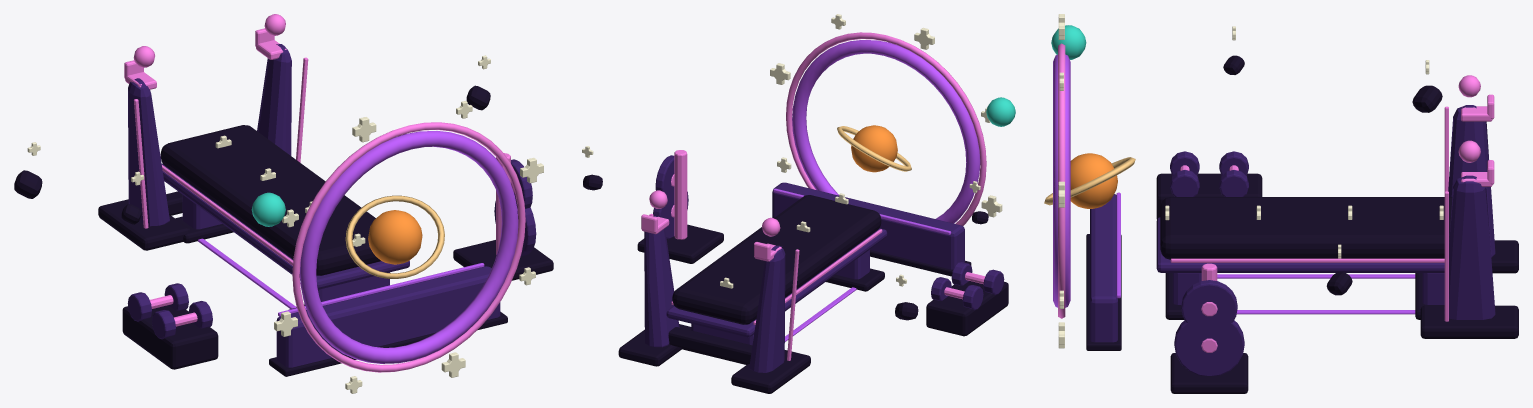
The model's file is Bench_Cosmique.fbx.
3 views of the same model, side by side, from view 1: azimuth 30°, elevation 25°; view 2: azimuth 150°, elevation 25°; view 3: azimuth 270°, elevation 25° (orthographic). The views are drawn at different scales.
Visible parts, largest first — view 1: Void, Purple, Glow.003, Pink, Star, PlanetOrange, SaturnRing, PlanetTeal; view 2: Void, Purple, Pink, Glow.003, Star, PlanetOrange, SaturnRing, PlanetTeal; view 3: Void, Purple, Pink, Glow.003, PlanetOrange, Star, PlanetTeal, SaturnRing.
Part boxes in pixels (x1,y1,x2,y2): Void: (14, 85, 553, 376); Purple: (127, 44, 536, 367); Glow.003: (198, 131, 518, 363); Pink: (124, 14, 525, 372); Star: (27, 55, 543, 393); PlanetOrange: (368, 210, 422, 264); SaturnRing: (345, 195, 444, 278); PlanetTeal: (251, 192, 285, 226); Void: (583, 174, 1008, 393); Purple: (644, 155, 1004, 372); Pink: (641, 32, 986, 360); Glow.003: (773, 40, 980, 341); Star: (582, 14, 1002, 288); PlanetOrange: (851, 125, 897, 172); SaturnRing: (837, 126, 911, 171); PlanetTeal: (986, 97, 1015, 126); Void: (1086, 55, 1518, 393); Purple: (1090, 105, 1495, 375); Pink: (1058, 43, 1494, 352); Glow.003: (1053, 54, 1415, 314); PlanetOrange: (1070, 153, 1117, 208); Star: (1058, 14, 1443, 348); PlanetTeal: (1051, 25, 1086, 59); SaturnRing: (1044, 157, 1135, 205).
Bounding box in the file's own units: 14.54 × 8.99 × 13.51.
